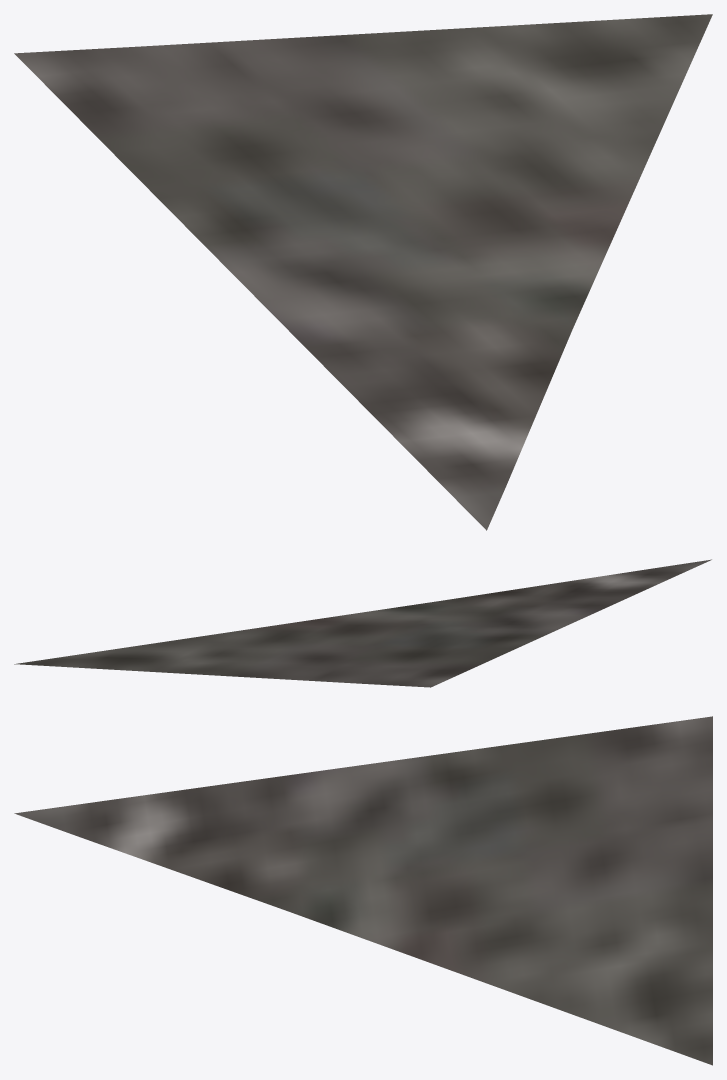
The picture shows the model from 3 angles, top to bottom: view 1: azimuth 30°, elevation 25°; view 2: azimuth 150°, elevation 25°; view 3: azimuth 270°, elevation 25°; orthographic projection. The views are drawn at different scales.
Bounding box in the file's own units: 0.1383 × 0.0248 × 0.162.
1 material, 1 textured.
